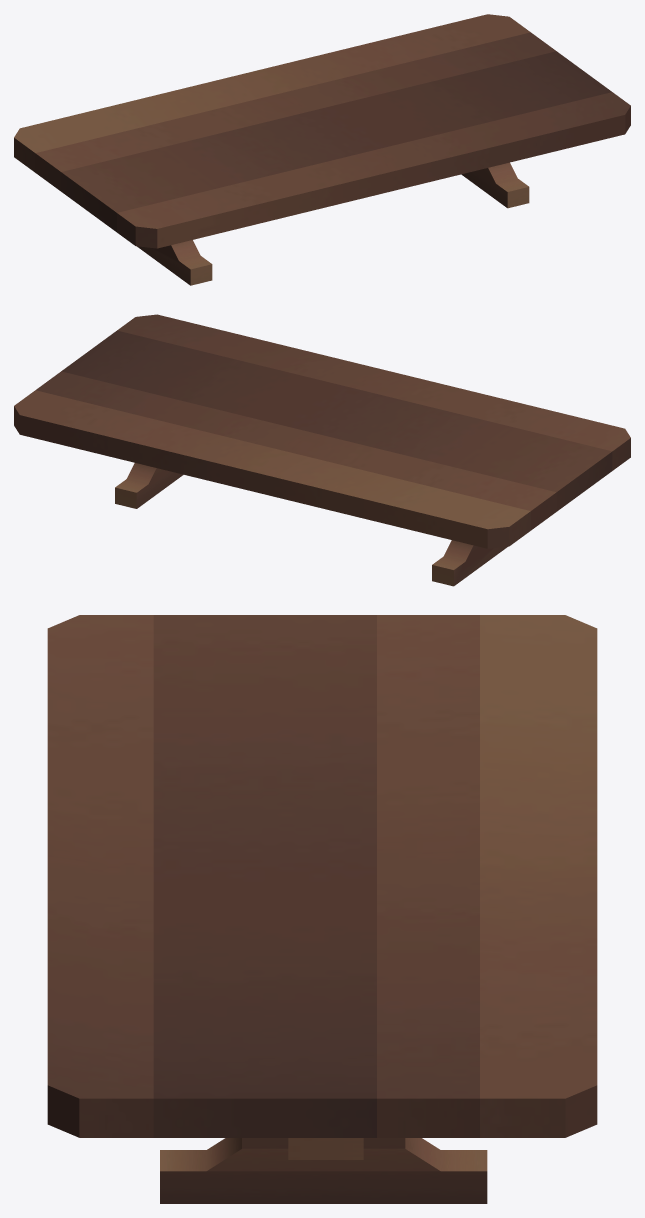
File: table_large.fbx
3 views of the same model, one above another, from view 1: azimuth 30°, elevation 25°; view 2: azimuth 150°, elevation 25°; view 3: azimuth 270°, elevation 25° (orthographic). The views are drawn at different scales.
Visible parts, largest first — view 1: table_large; view 2: table_large; view 3: table_large.
Part boxes in pixels (x1,y1,x2,y2): table_large: (14,14,630,285); table_large: (14,314,630,586); table_large: (47,615,597,1203).
Size of the model in its own units: 350 by 62.39 by 168.
